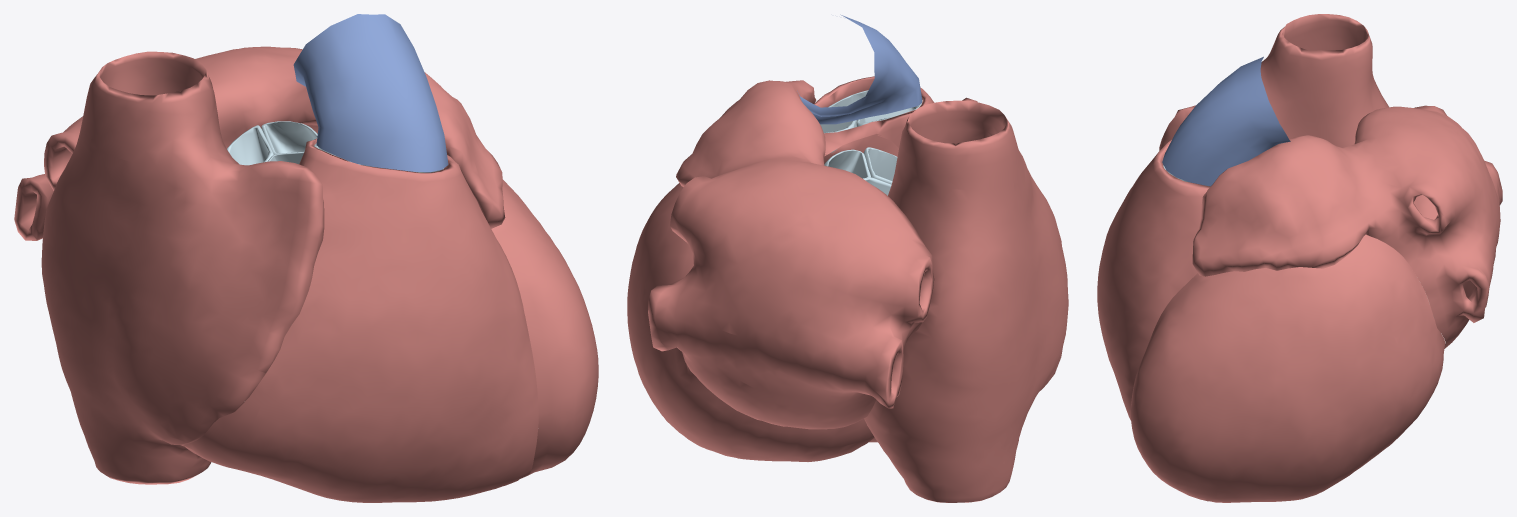
File: heart-v1.glb
3 renders of one model, left to right at view 1: azimuth 30°, elevation 25°; view 2: azimuth 150°, elevation 25°; view 3: azimuth 270°, elevation 25°, orthographic. The views are drawn at different scales.
Visible parts, largest first — view 1: Right atrium, Right ventricle, Pulmonary trunk, Left atrium, Left ventricle, Left coronary leaflet, Non-coronary leaflet; view 2: Left atrium, Right atrium, Left ventricle, Pulmonary trunk, Right ventricle, Right coronary leaflet, Left coronary leaflet; view 3: Left ventricle, Left atrium, Right ventricle, Right atrium, Pulmonary trunk.
Boxes of the visible parts, x1,y1,x2,y2 form: Right atrium: [41, 51, 324, 484]; Right ventricle: [181, 138, 538, 502]; Pulmonary trunk: [293, 14, 448, 172]; Left atrium: [14, 46, 505, 240]; Left ventricle: [306, 125, 598, 474]; Left coronary leaflet: [261, 121, 317, 154]; Non-coronary leaflet: [227, 125, 273, 165]; Left atrium: [648, 80, 934, 429]; Right atrium: [864, 97, 1068, 502]; Left ventricle: [627, 134, 898, 461]; Pulmonary trunk: [797, 14, 922, 124]; Right ventricle: [814, 76, 934, 442]; Right coronary leaflet: [863, 147, 897, 184]; Left coronary leaflet: [824, 149, 870, 178]; Left ventricle: [1130, 234, 1445, 502]; Left atrium: [1192, 105, 1502, 348]; Right ventricle: [1097, 140, 1209, 420]; Right atrium: [1159, 14, 1388, 150]; Pulmonary trunk: [1162, 56, 1290, 186].
Bounding box in the file's own units: 0.1192 × 0.1205 × 0.1129.
